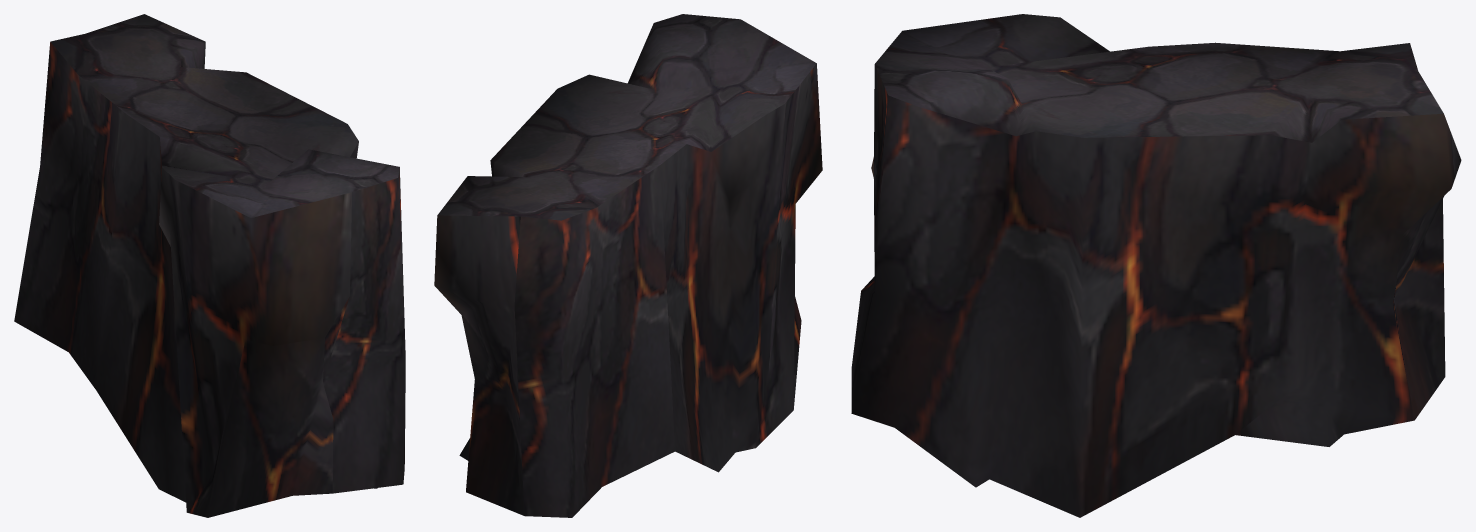
The model's file is temple_side02.FBX.
3 views of the same model, side by side, from view 1: azimuth 30°, elevation 25°; view 2: azimuth 150°, elevation 25°; view 3: azimuth 270°, elevation 25° (orthographic). The views are drawn at different scales.
Parts seen in each view (by area): view 1: temple_side02; view 2: temple_side02; view 3: temple_side02.
Boxes of the visible parts, <box> form: temple_side02: <box>14,14,405,517</box>; temple_side02: <box>434,14,822,517</box>; temple_side02: <box>851,14,1461,517</box>.
Size of the model in its own units: 155 by 272 by 368.
